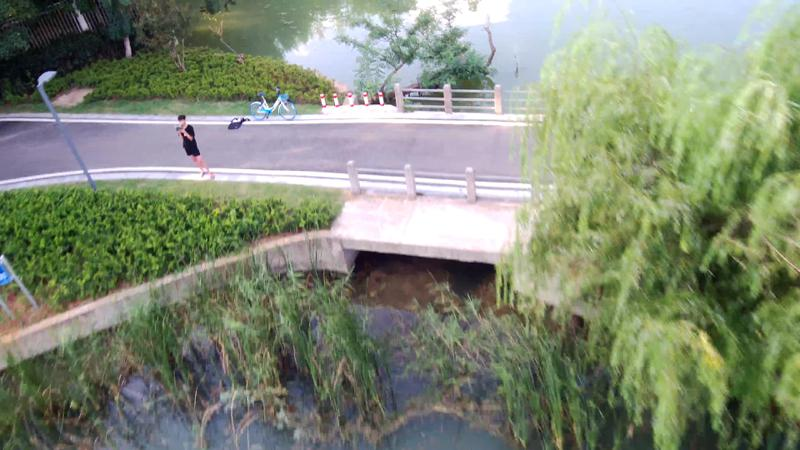passerby: (173, 114, 215, 182)
